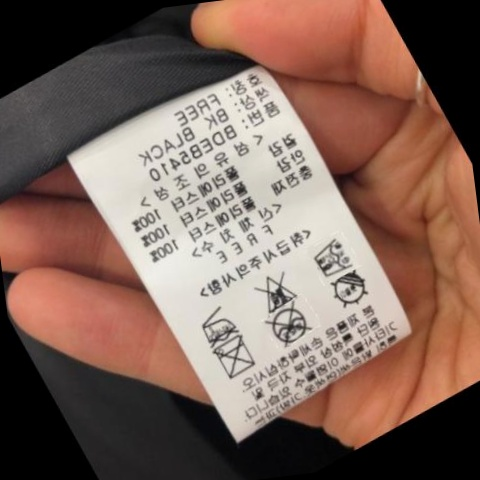DN_dry_clean: (257, 303, 314, 346)
DN_wash: (206, 336, 258, 383)
dry_flat: (299, 230, 358, 277)
iron_medium: (187, 298, 243, 346)
line_dry_in_shade: (322, 272, 370, 311)
non_chlorine_bleach: (252, 269, 304, 312)
